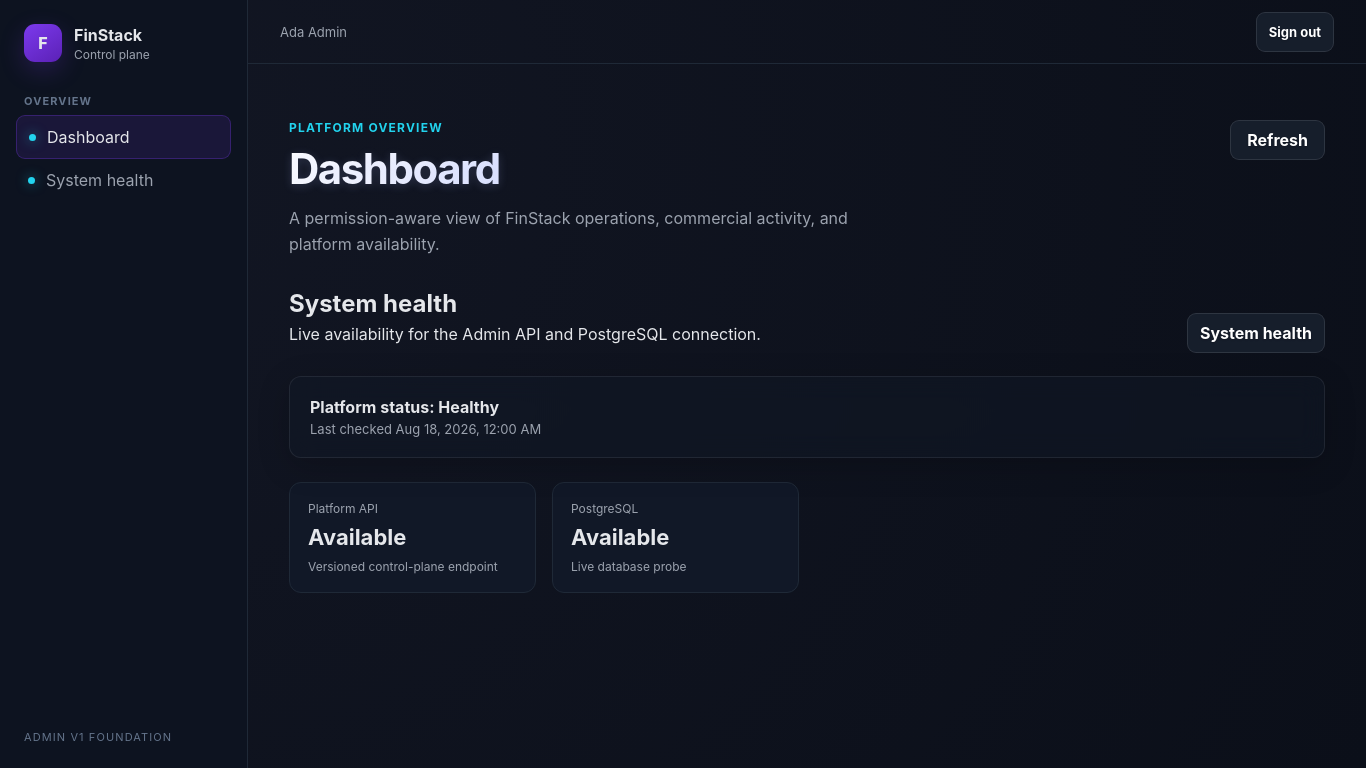
Scenario: platform authentication flow › bootstraps from refresh and logout clears the memory token
The width and height of the screenshot is (1366, 768).
Check: the text "Platform status: Healthy" is shown, box [310,397,499,417]
Click the button "Sign out" at (1295, 32), box [1256,12,1334,52]
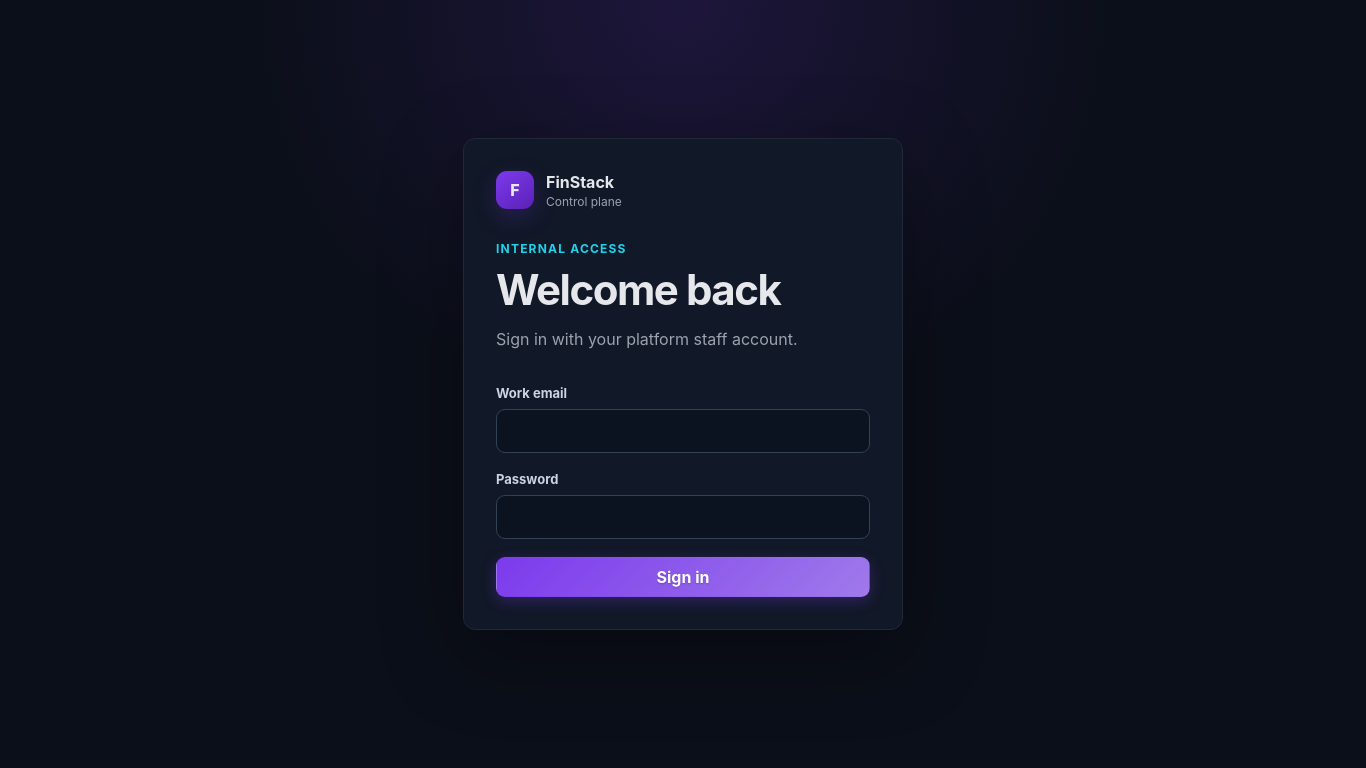
Check: the heading "Welcome back" is shown, box [496,264,780,315]
